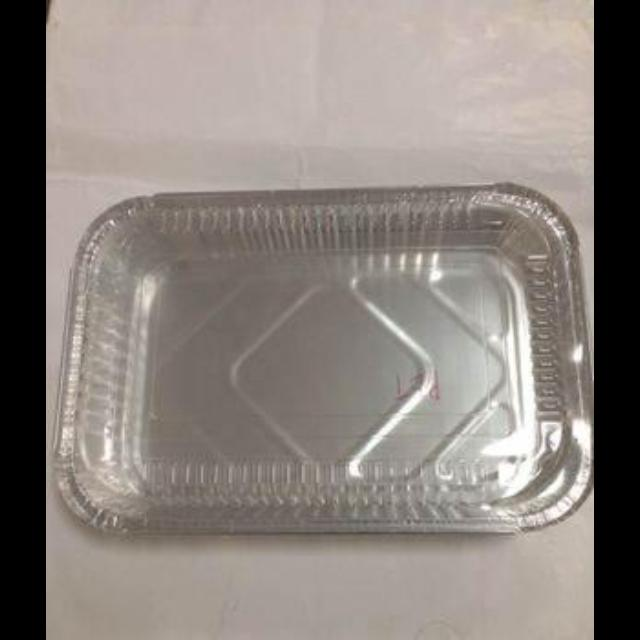plastic_box: (52, 175, 592, 540)
